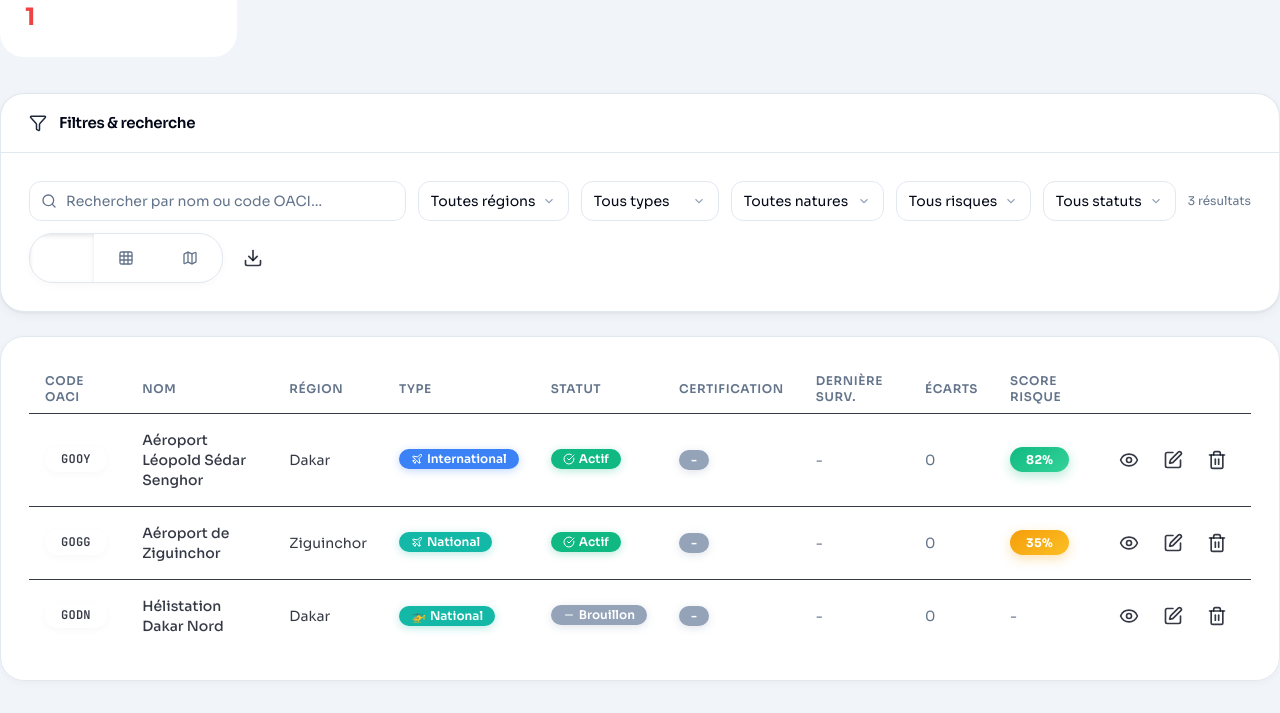
Test: AerodromesModule › Suppression d'un aérodrome › ouvre la boîte de confirmation au clic sur Supprimer
(page scrolled)
Click the 1st button with class "danger".
click(1217, 460)  # box [1199,442,1235,478]
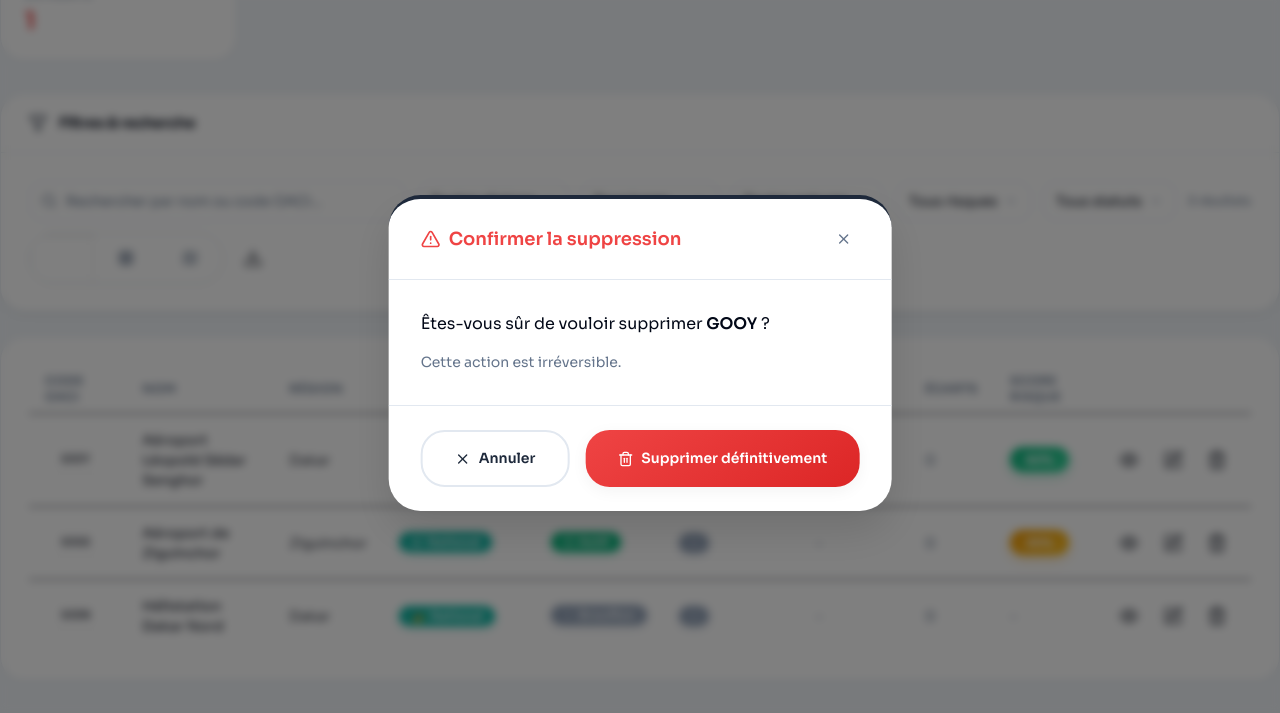
Expected: the button "Supprimer définitivement" is shown, [585,430,859,487]
